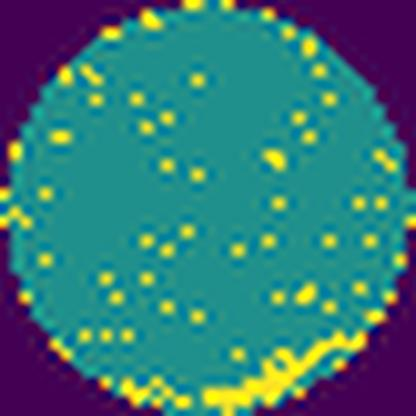Edge-Loc: (201, 331, 372, 415)
